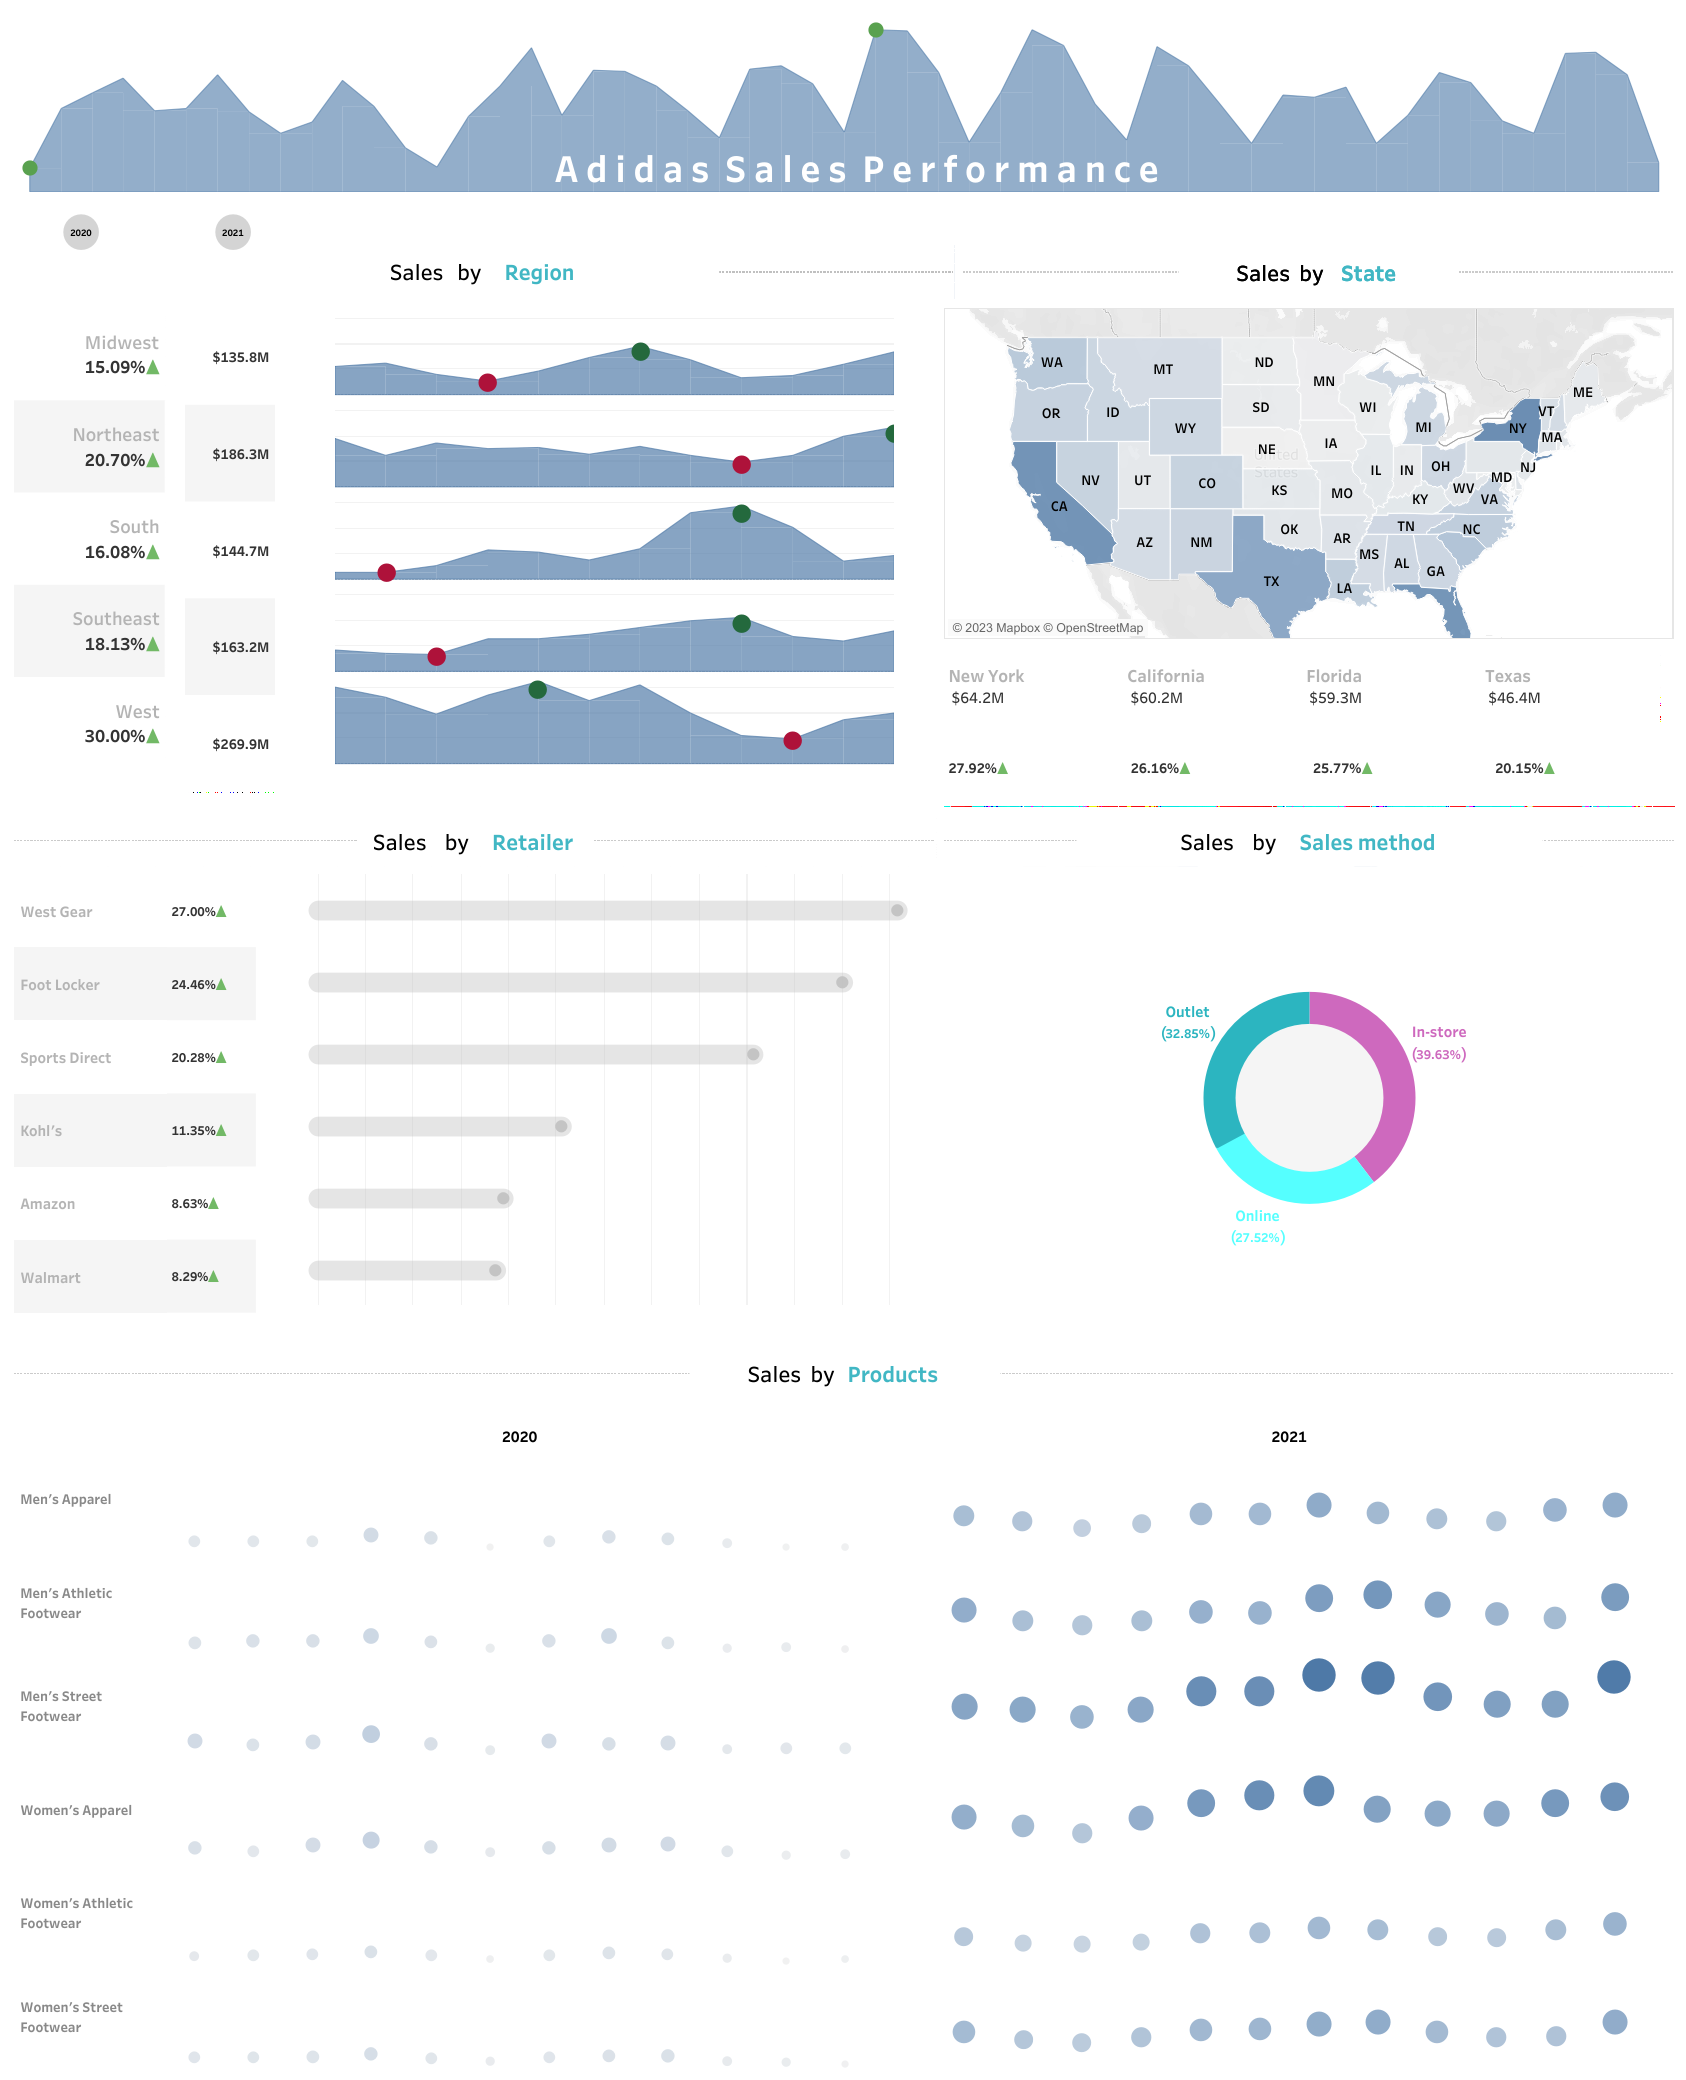

This screenshot's page, from the dashboard's own definition file:
{"tool":"tableau","page":{"name":"Dasboard","canvas":[1500,1850],"ordinal":0},"visuals":[{"type":"worksheet","title":"Weekly Sales","mark":"Area","rows":["Total Sales","Calculation_1470143823686062084"],"cols":["Invoice Date"],"box":[8,8,1484,166]},{"type":"text","box":[25,94,1473,109]},{"type":"worksheet","title":"Years KPI","mark":"Shape","cols":["Invoice Date"],"box":[4,171,296,78]},{"type":"blank","box":[8,174,1484,40]},{"type":"worksheet","title":"header region","mark":"Automatic","rows":["Calculation_157907483267829764","Calculation_157907483267829764"],"box":[8,214,844,56]},{"type":"worksheet","title":"header state","mark":"Automatic","rows":["Calculation_157907483312615434","Calculation_157907483312615434"],"box":[852,214,640,56]},{"type":"worksheet","title":"Regions dynamic","mark":"Automatic","rows":["Region"],"box":[8,270,152,419]},{"type":"worksheet","title":"Regions Sales","mark":"Automatic","rows":["Region"],"box":[160,270,134,451]},{"type":"worksheet","title":"Region area graph","mark":"Area","rows":["Region","Total Sales","Calculation_1470143823686062084"],"cols":["Invoice Date"],"box":[294,270,509,451]},{"type":"worksheet","title":"sales by state map","mark":"Multipolygon","box":[835.5,270,656.5,303]},{"type":"worksheet","title":"Sales by state","mark":"Automatic","cols":["State"],"box":[835.5,573,656.5,72]},{"type":"worksheet","title":"sales by state dynamic","mark":"Automatic","cols":["State"],"box":[835.5,645,656.5,76]},{"type":"worksheet","title":"headere retailer","mark":"Automatic","rows":["Calculation_157907483324858381","Calculation_157907483324858381"],"box":[8,721,827,51.7]},{"type":"worksheet","title":"header sales method","mark":"Automatic","rows":["Calculation_157907483325931536","Calculation_157907483325931536"],"box":[835,721,657,51.7]},{"type":"worksheet","title":"Sales by retailer arrows","mark":"Automatic","rows":["Retailer"],"box":[8,772.7,236,406.4]},{"type":"worksheet","title":"Sales by Retailer","mark":"Automatic","rows":["Retailer"],"cols":["Total Sales"],"box":[244,772.7,592,406.4]},{"type":"worksheet","title":"Sales method donut","mark":"Pie","rows":["Calculation_157907483016646657","Calculation_157907483016646657"],"box":[836,772.7,656,406.4]},{"type":"worksheet","title":"HEADER PRODUCTS","mark":"Automatic","rows":["Calculation_157907483329847315","Calculation_157907483329847315"],"box":[8,1179,1484,83]},{"type":"worksheet","title":"Top sales by products","mark":"Shape","rows":["Product","Total Sales"],"cols":["Invoice Date","Invoice Date"],"box":[8,1262,1484,580]}]}

Visuals, with their boxes in screenshot pixels (x1, y1, x2, y2), scaled from the page's 1500x1850 canvas onto the 1686x2080 screenshot:
"Weekly Sales" worksheet (Area marks): 9/9/1677/196
text: 28/106/1684/228
"Years KPI" worksheet (Shape marks): 4/192/337/280
blank: 9/196/1677/241
"header region" worksheet: 9/241/958/304
"header state" worksheet: 958/241/1677/304
"Regions dynamic" worksheet: 9/304/180/775
"Regions Sales" worksheet: 180/304/330/811
"Region area graph" worksheet (Area marks): 330/304/903/811
"sales by state map" worksheet (Multipolygon marks): 939/304/1677/644
"Sales by state" worksheet: 939/644/1677/725
"sales by state dynamic" worksheet: 939/725/1677/811
"headere retailer" worksheet: 9/811/939/869
"header sales method" worksheet: 939/811/1677/869
"Sales by retailer arrows" worksheet: 9/869/274/1326
"Sales by Retailer" worksheet: 274/869/940/1326
"Sales method donut" worksheet (Pie marks): 940/869/1677/1326
"HEADER PRODUCTS" worksheet: 9/1326/1677/1419
"Top sales by products" worksheet (Shape marks): 9/1419/1677/2071
